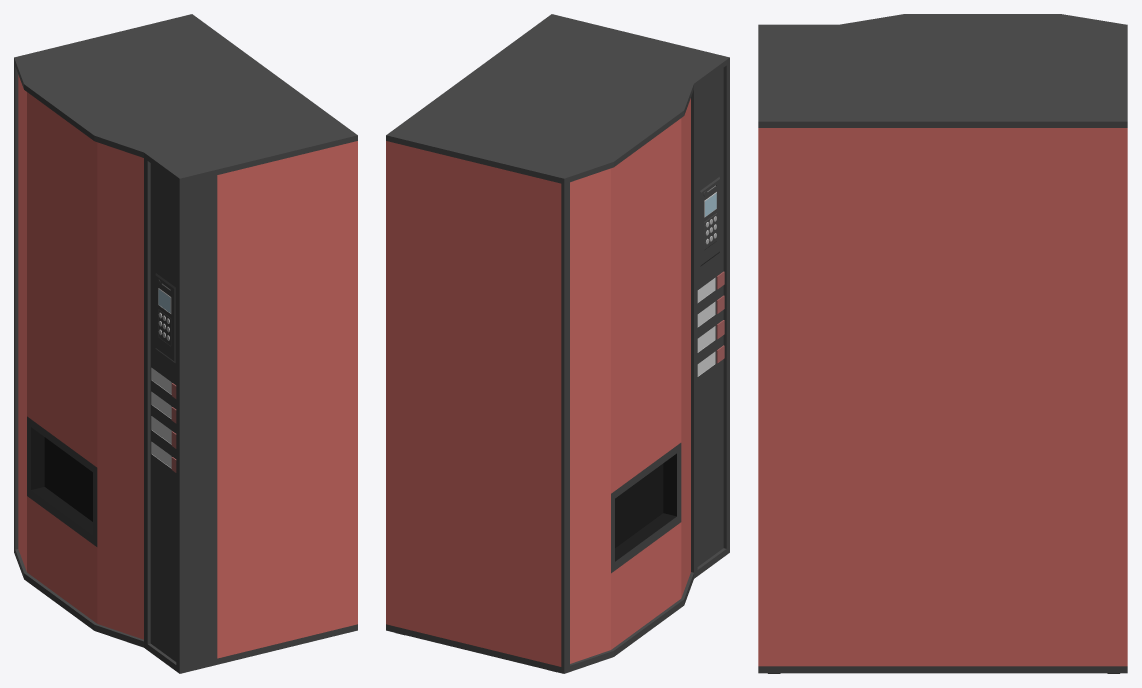
File: Red Vending Machine.fbx
3 renders of one model, left to right at view 1: azimuth 30°, elevation 25°; view 2: azimuth 150°, elevation 25°; view 3: azimuth 270°, elevation 25°, orthographic. The views are drawn at different scales.
Parts seen in each view (by area): view 1: pCube17, pCube18; view 2: pCube17, pCube18; view 3: pCube17.
Boxes of the visible parts, x1=… form: pCube17: x1=14, y1=14, x2=357, y2=673; pCube18: x1=155, y1=273, x2=175, y2=362; pCube17: x1=386, y1=14, x2=729, y2=673; pCube18: x1=700, y1=177, x2=719, y2=266; pCube17: x1=758, y1=14, x2=1127, y2=673.
Bounding box in the file's own units: 5.75 × 13.84 × 8.33.
